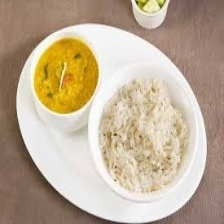dal: (31, 33, 100, 114)
